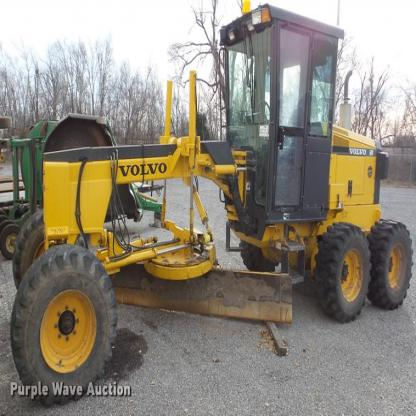bull_dozer/loader/grader: (12, 8, 416, 397)
